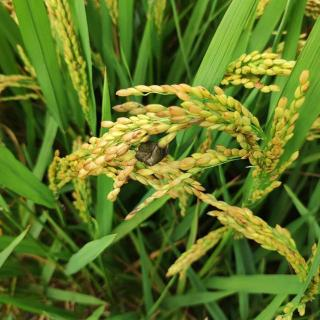Gosong-Palsu: (134, 138, 170, 166)
